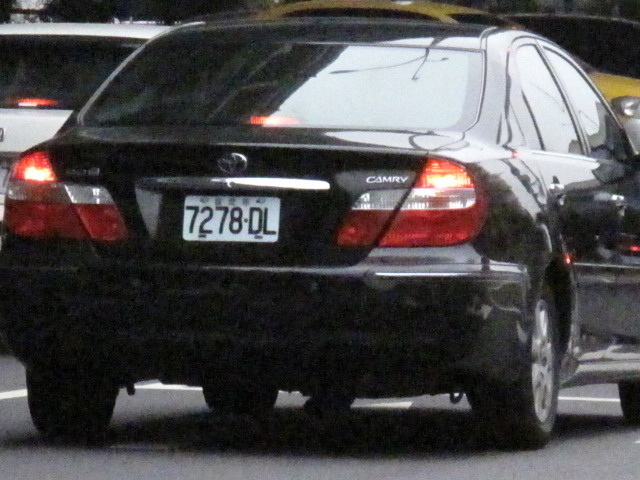plate: (180, 191, 285, 246)
